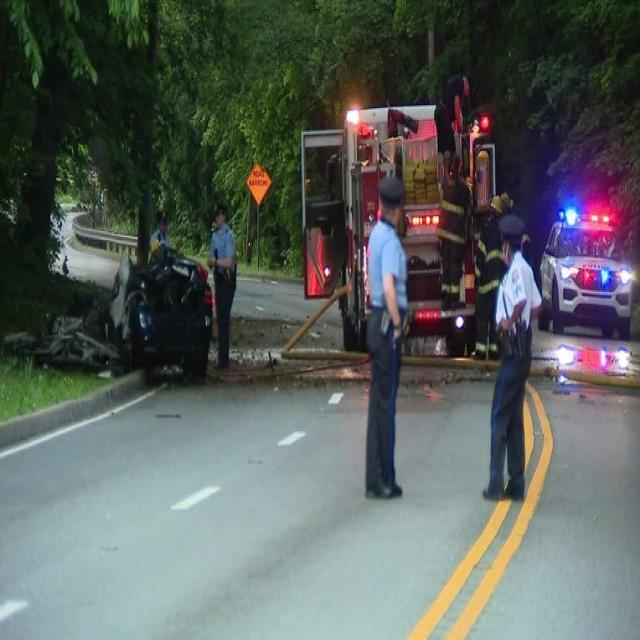accident: (96, 221, 221, 394)
